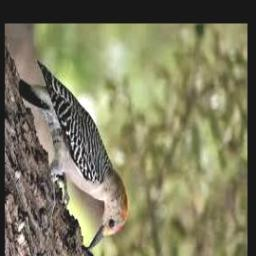Woodpecker: (18, 60, 128, 252)
